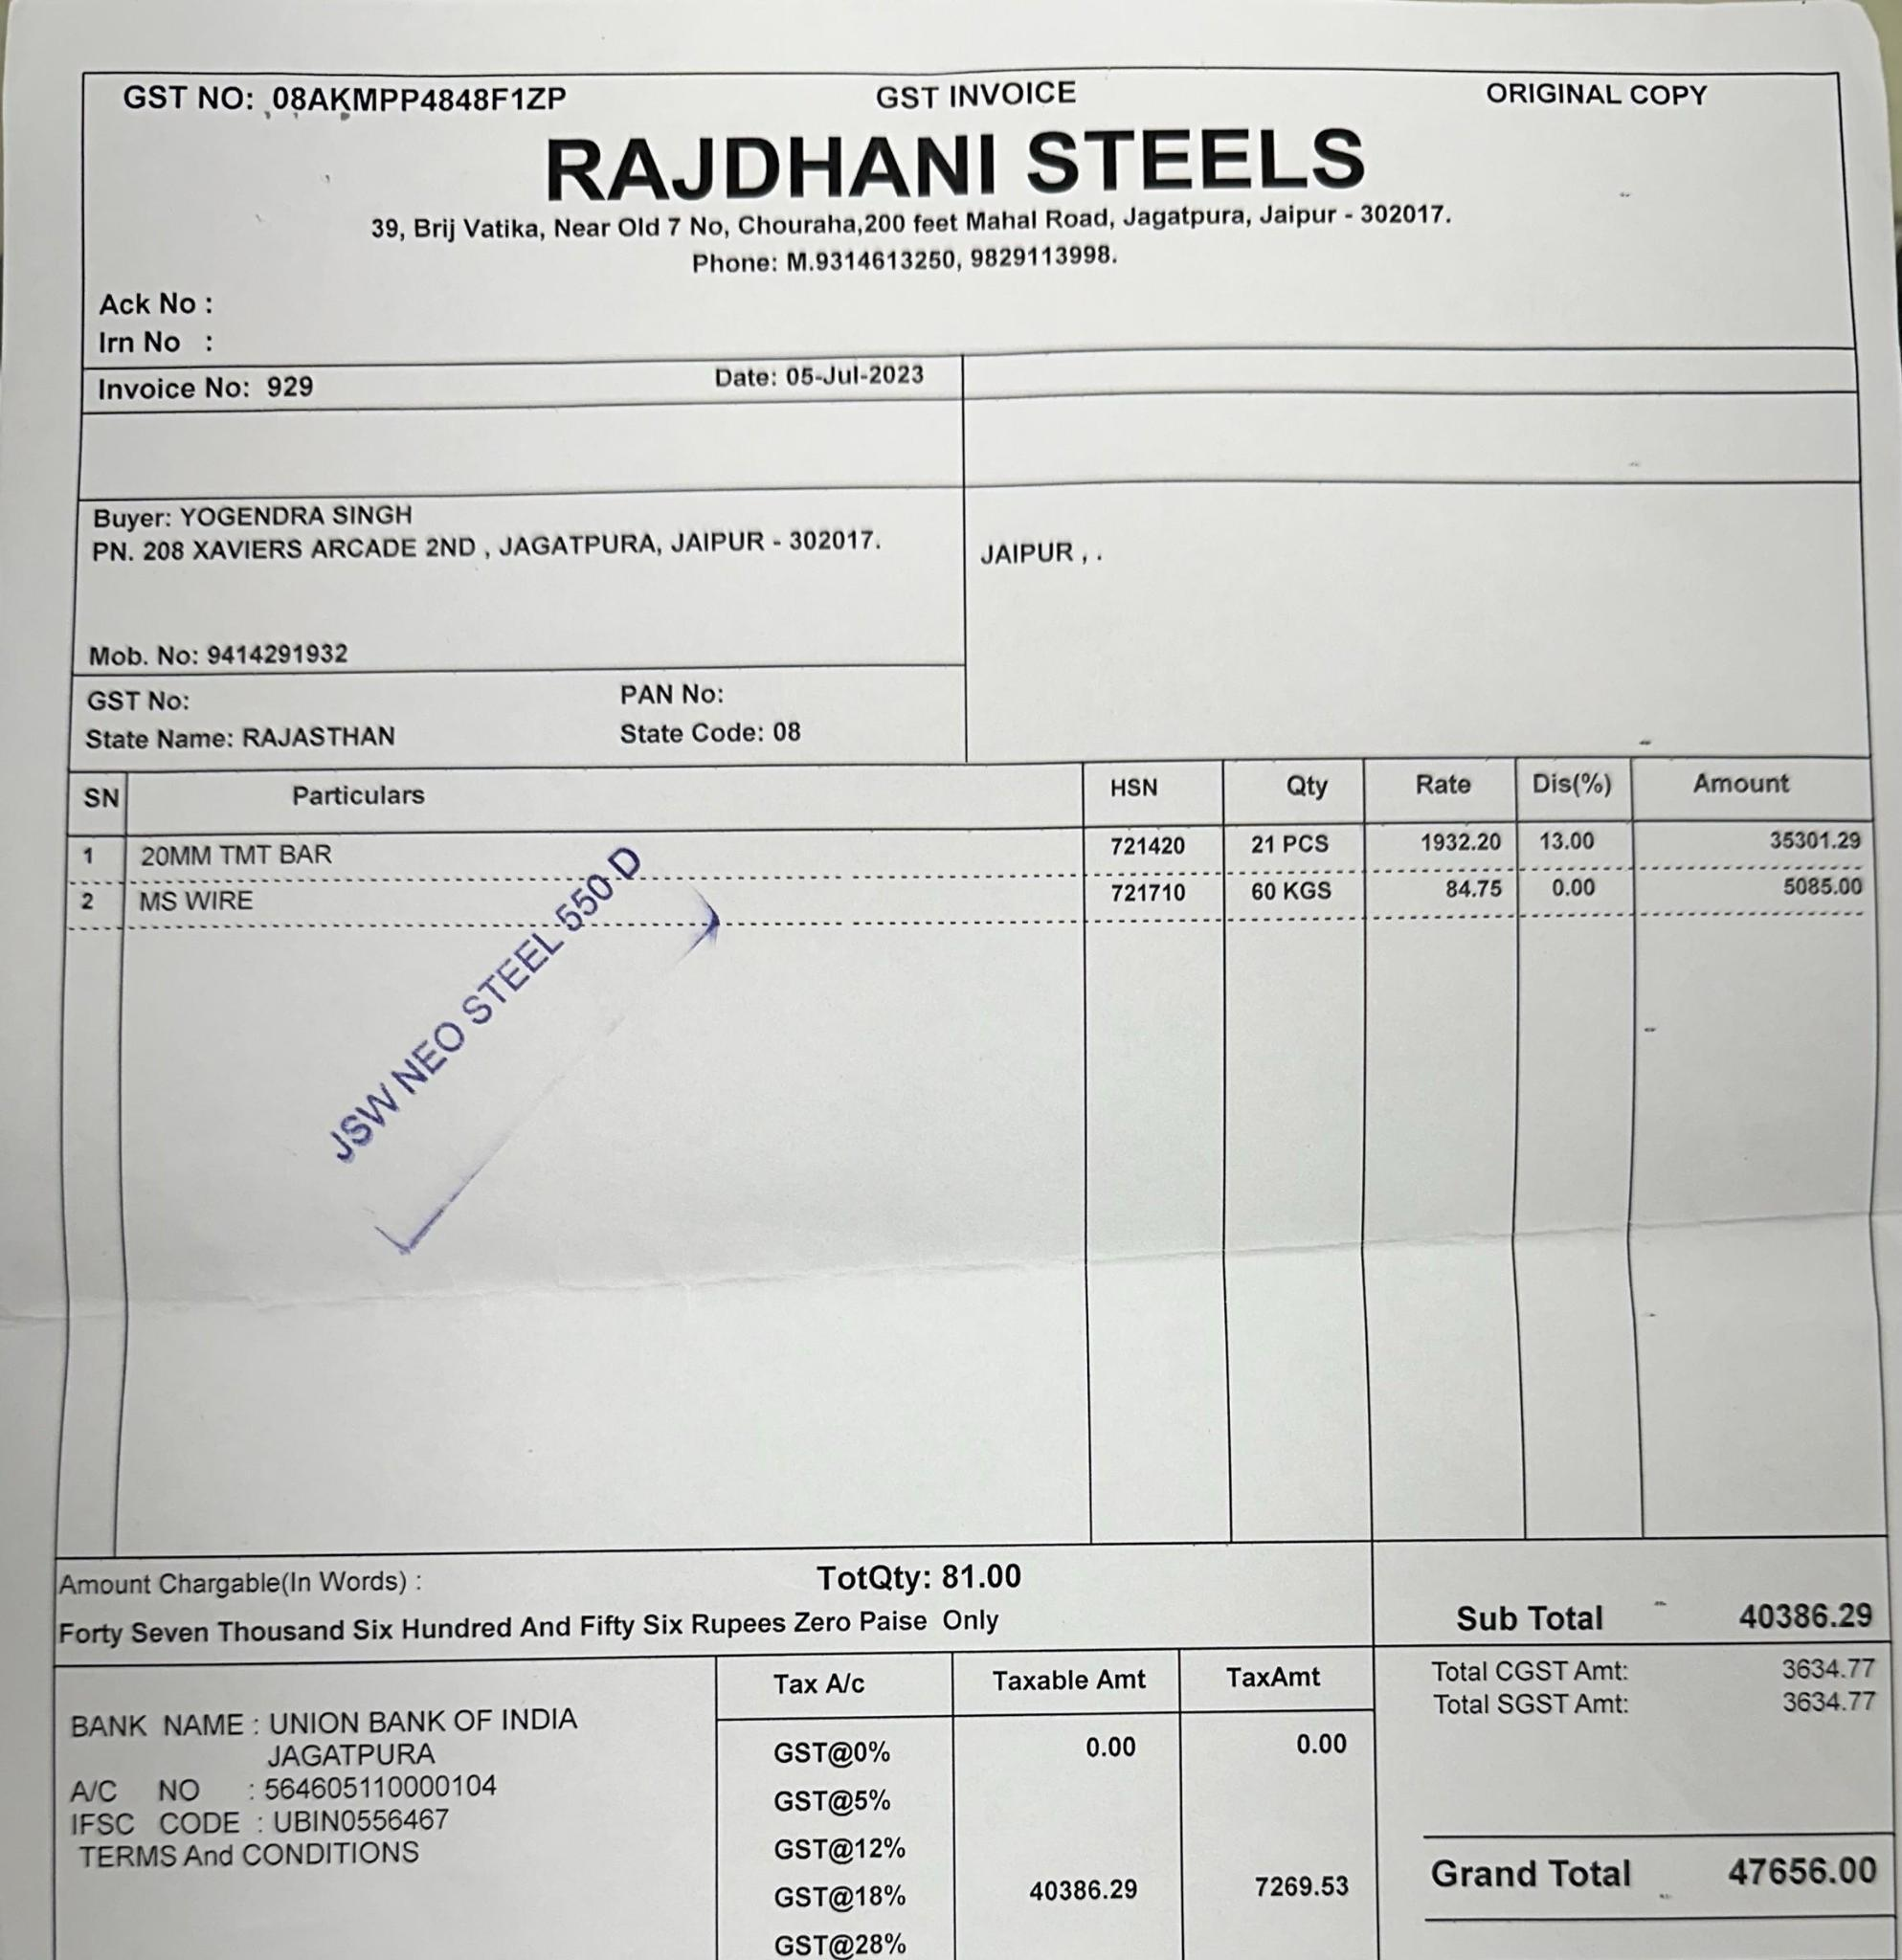ROI: (61, 754, 1883, 1534), (719, 1654, 1380, 1959), (1420, 1595, 1895, 1923), (68, 1687, 604, 1875), (54, 1560, 1096, 1651), (362, 203, 1460, 272), (526, 124, 1365, 199), (81, 677, 824, 752), (84, 500, 885, 568), (117, 79, 588, 120), (78, 626, 357, 673), (90, 278, 244, 361), (1478, 73, 1733, 120), (707, 357, 934, 402), (90, 377, 331, 405), (977, 529, 1108, 577), (870, 83, 1085, 109)
